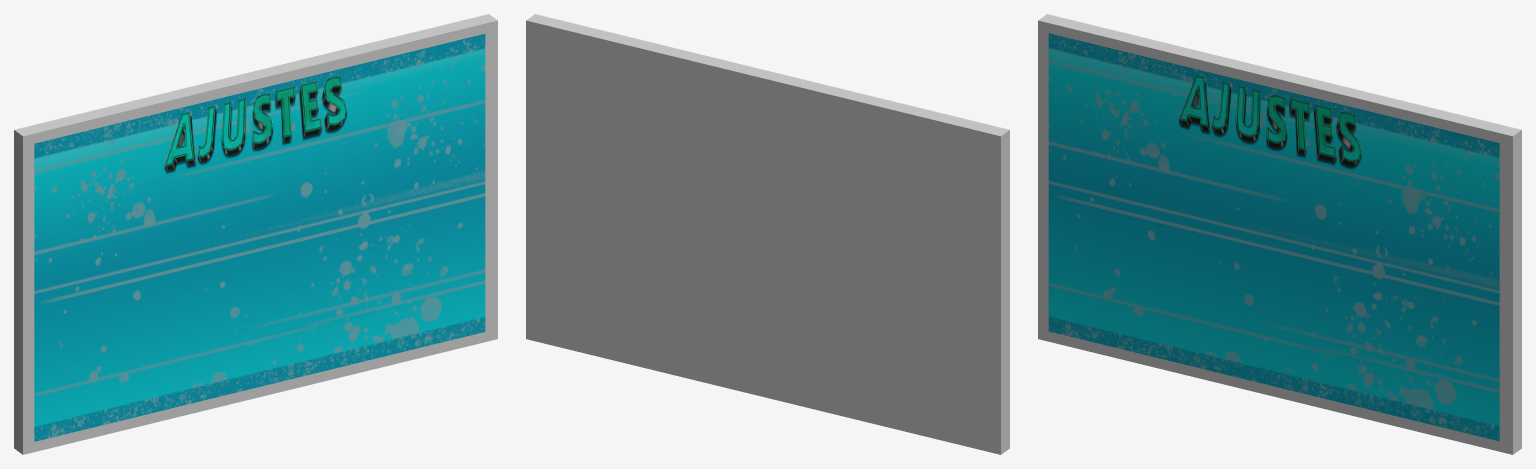
The model's file is AjustesMax.fbx.
3 views of the same model, side by side, from view 1: azimuth 30°, elevation 25°; view 2: azimuth 150°, elevation 25°; view 3: azimuth 330°, elevation 25° (orthographic).
Visible parts, largest first — view 1: Plane001, Box001; view 2: Box001; view 3: Plane001, Box001.
Boxes of the visible parts, left/top/right/bottom form: Plane001: left=34, top=34, right=485, bottom=441; Box001: left=14, top=14, right=497, bottom=454; Box001: left=526, top=14, right=1009, bottom=454; Plane001: left=1048, top=33, right=1499, bottom=441; Box001: left=1038, top=14, right=1521, bottom=454.
Size of the model in its own units: 25.5 by 16.35 by 0.8645.
